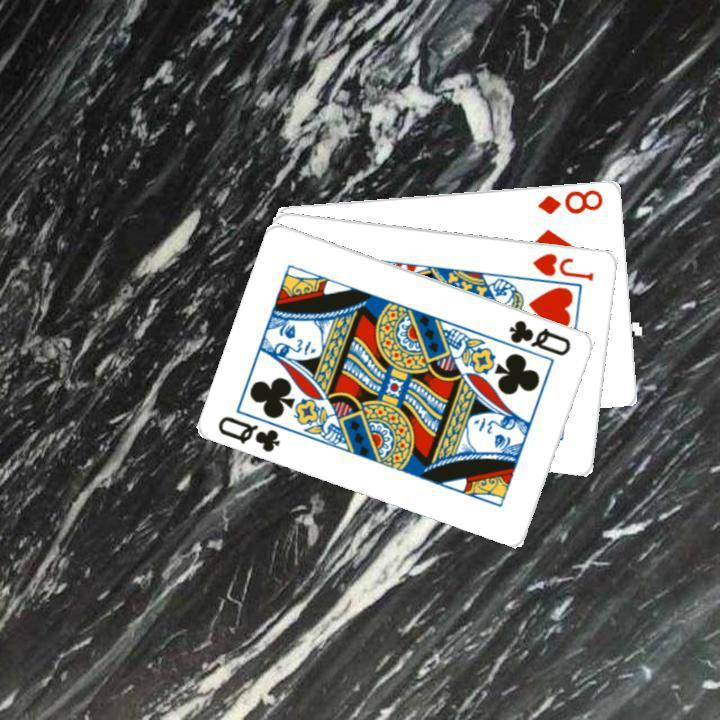8: (533, 185, 605, 216)
J: (529, 248, 596, 282)
Q: (504, 315, 573, 358), (214, 411, 283, 454)
